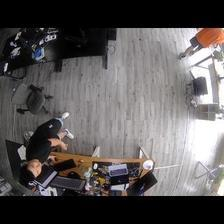normal: (24, 111, 76, 178), (179, 29, 224, 67)
